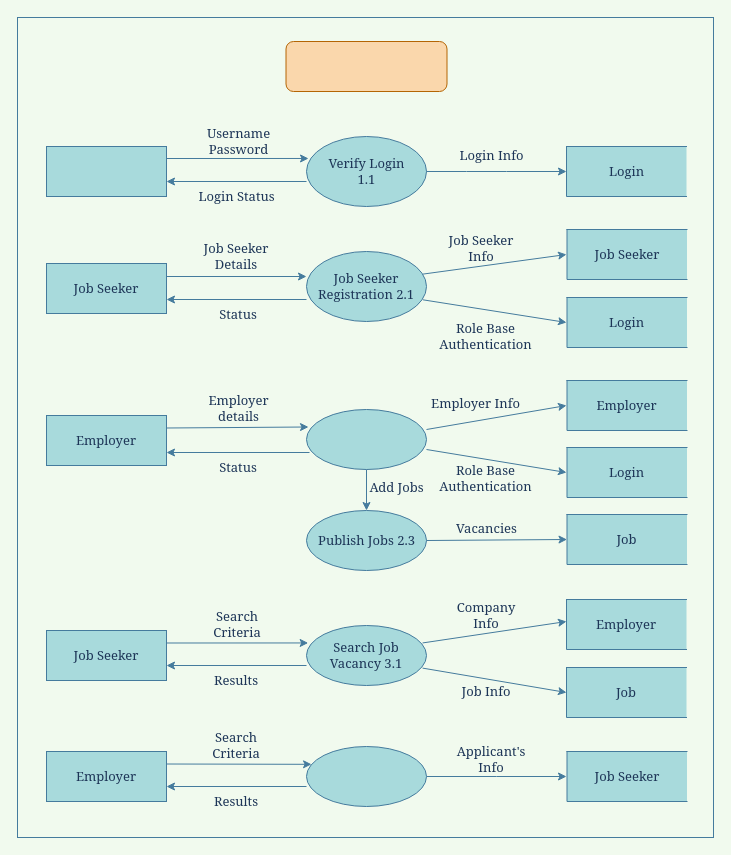
This 731x855 diagram has some shape labels left out. Each missing label, with the box of its shape:
2-LEVEL DFD: (285, 40, 447, 92)
Employer Registration 2.2: (306, 408, 426, 470)
Search Applicants 3.2: (306, 746, 426, 806)
User: (46, 146, 166, 196)
